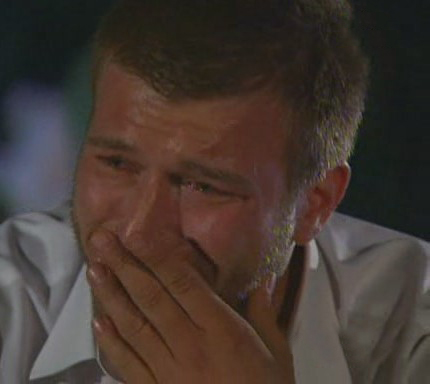face: (72, 58, 282, 334)
